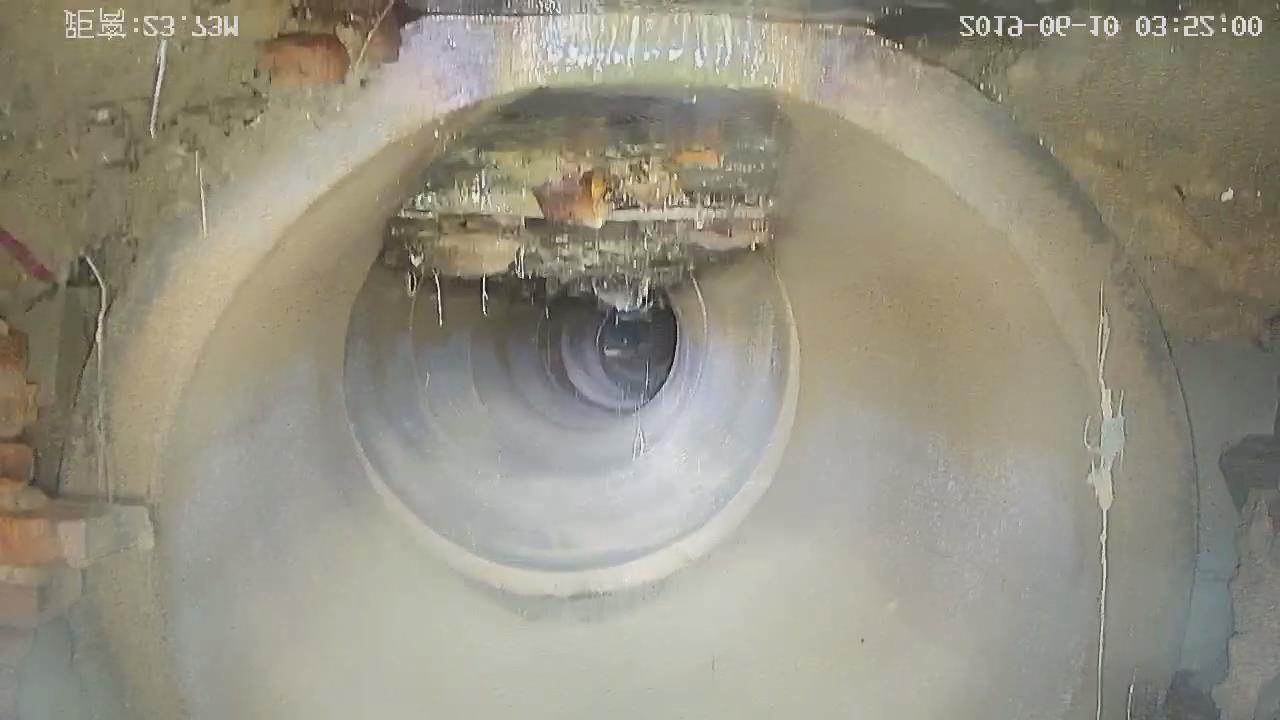CJ: (379, 95, 787, 324)
CKTJ: (362, 255, 800, 597)
